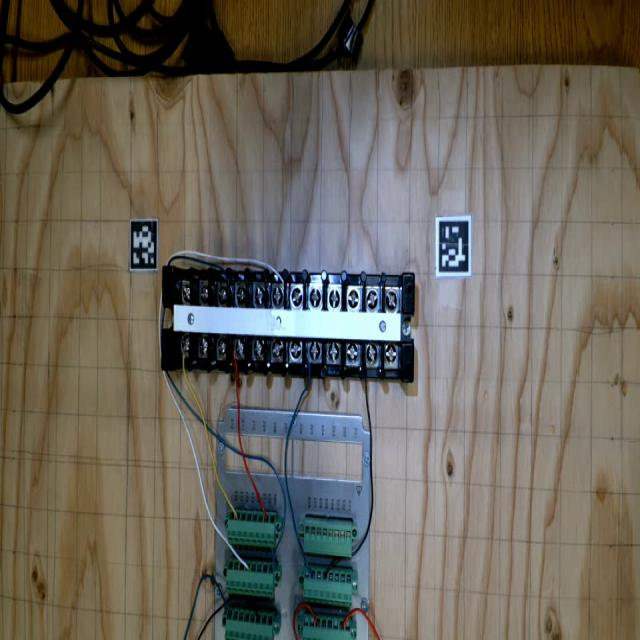Phillips_Block: (158, 261, 418, 382)
Terminal_2: (301, 564, 355, 607), (224, 558, 277, 598), (227, 509, 277, 547), (224, 607, 275, 640), (302, 614, 351, 639)
